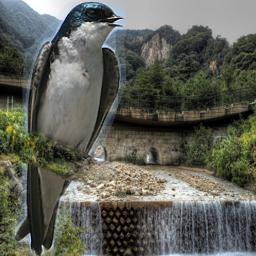Swallow: (15, 2, 126, 256)
